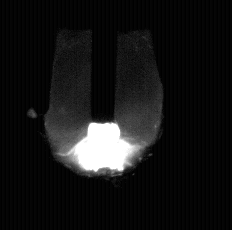arame: (91, 0, 115, 124)
poca: (45, 0, 158, 230)
